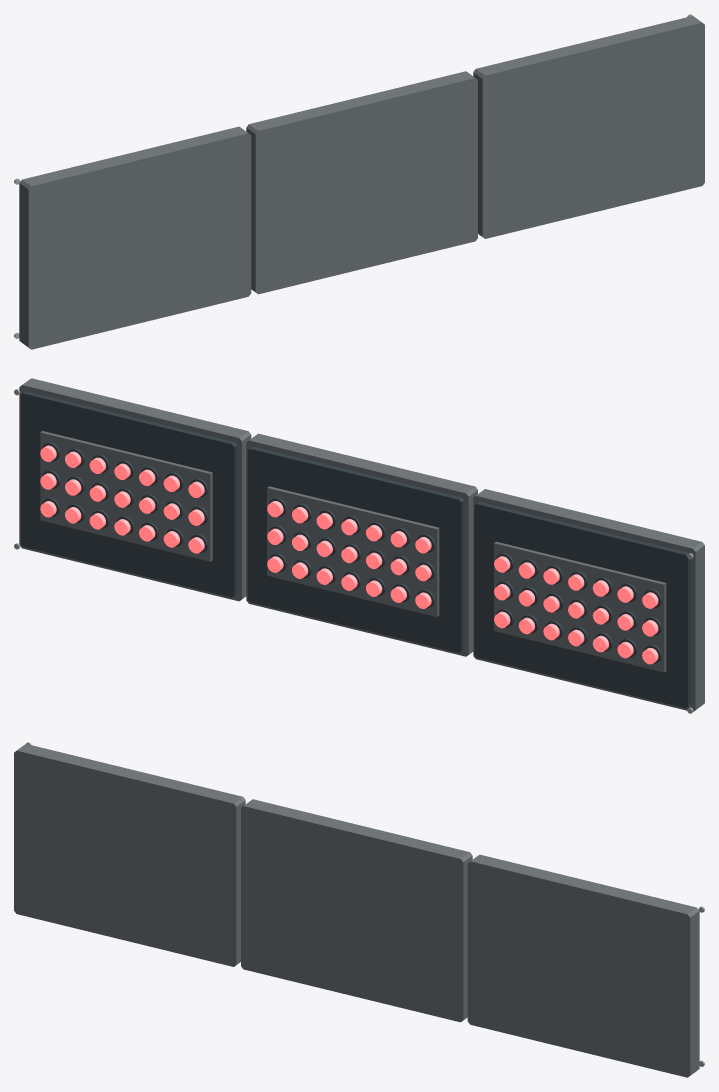
File: UC_MODULLU_KIRMIZI_GOSTERGE_DIZISI_14_ADAY.glb
3 renders of one model, top to bottom at view 1: azimuth 30°, elevation 25°; view 2: azimuth 150°, elevation 25°; view 3: azimuth 330°, elevation 25°, orthographic.
Visible parts, largest first — view 1: Indicator_unit_2_rear_housing, Indicator_unit_1_rear_housing, Indicator_unit_0_rear_housing; view 2: Indicator_unit_0_face, Indicator_unit_1_face, Indicator_unit_2_face, Indicator_unit_0_lens_backplate, Indicator_unit_2_lens_backplate, Indicator_unit_1_lens_backplate, Indicator_unit_2_rear_housing, Indicator_unit_1_rear_housing, Indicator_unit_0_rear_housing; view 3: Indicator_unit_0_rear_housing, Indicator_unit_1_rear_housing, Indicator_unit_2_rear_housing.
Part boxes in pixels (x1,y1,x2,y2): Indicator_unit_2_rear_housing: (19, 126, 251, 349); Indicator_unit_1_rear_housing: (246, 71, 477, 294); Indicator_unit_0_rear_housing: (473, 16, 704, 238); Indicator_unit_0_face: (20, 391, 237, 597); Indicator_unit_1_face: (247, 446, 463, 652); Indicator_unit_2_face: (474, 502, 690, 708); Indicator_unit_0_lens_backplate: (40, 431, 212, 561); Indicator_unit_2_lens_backplate: (494, 541, 666, 672); Indicator_unit_1_lens_backplate: (267, 486, 439, 616); Indicator_unit_2_rear_housing: (473, 489, 704, 711); Indicator_unit_1_rear_housing: (246, 433, 477, 656); Indicator_unit_0_rear_housing: (19, 378, 251, 601); Indicator_unit_0_rear_housing: (467, 854, 699, 1077); Indicator_unit_1_rear_housing: (241, 799, 472, 1022); Indicator_unit_2_rear_housing: (14, 744, 245, 966).
Bounding box in the file's own units: 9.21 × 2.12 × 0.455.
